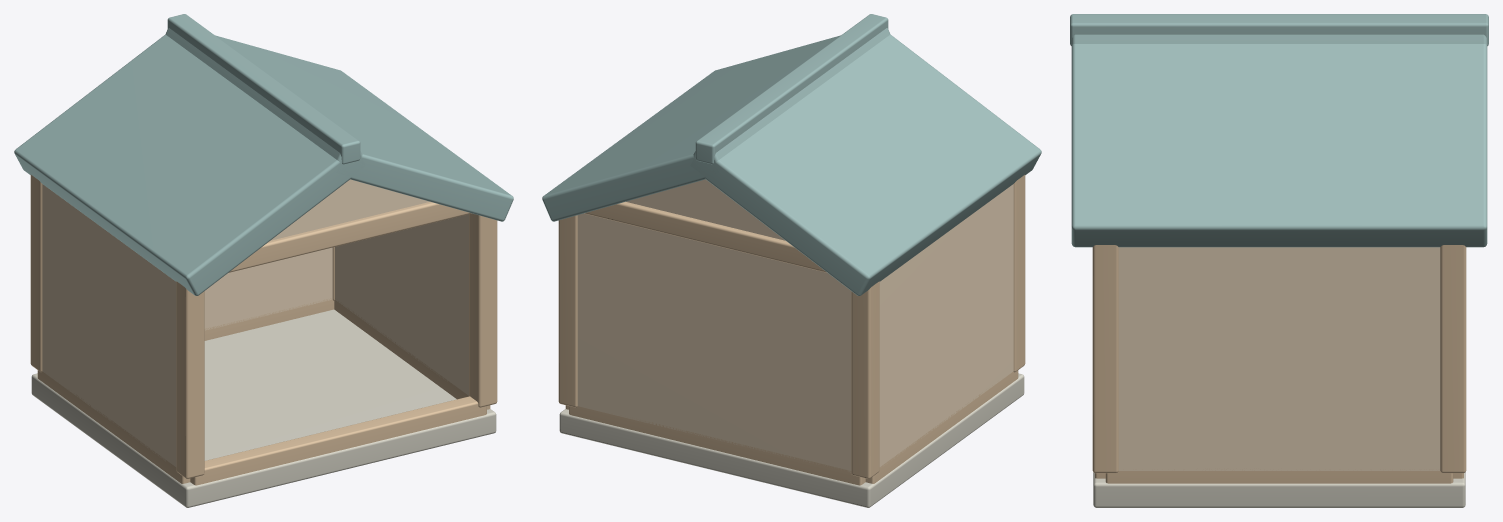
File: family-home-roof.glb
3 renders of one model, left to right at view 1: azimuth 30°, elevation 25°; view 2: azimuth 150°, elevation 25°; view 3: azimuth 270°, elevation 25°, orthographic. The views are drawn at different scales.
Visible parts, largest first — view 1: Padded roof plane.004, Rounded stone footing.006, Side panel.004, Padded roof plane.005, Side panel.005, Back panel, Sill beam.024, Corner post.018, Corner post.016, Ridge cap.002, Eave beam.008, Gable cladding.004 (+4 smaller); view 2: Back panel, Padded roof plane.004, Side panel.004, Padded roof plane.005, Rounded stone footing.006, Corner post.017, Ridge cap.002, Eave beam.009, Corner post.019, Sill beam.025, Gable cladding.005, Corner post.016 (+1 smaller); view 3: Padded roof plane.005, Side panel.005, Rounded stone footing.006, Ridge cap.002, Corner post.018, Corner post.019, Sill beam.027, Padded roof plane.004.
Boxes of the visible parts, box(x1,y1,x2,y2) form: Padded roof plane.004: box(14, 34, 365, 295); Rounded stone footing.006: box(31, 309, 496, 507); Side panel.004: box(42, 184, 176, 466); Padded roof plane.005: box(165, 28, 513, 221); Side panel.005: box(335, 214, 468, 395); Back panel: box(204, 247, 332, 330); Sill beam.024: box(190, 396, 486, 485); Corner post.018: box(469, 213, 497, 407); Corner post.016: box(176, 281, 204, 478); Ridge cap.002: box(167, 14, 360, 164); Eave beam.008: box(228, 201, 471, 272); Gable cladding.004: box(270, 179, 429, 240); Back panel: box(577, 213, 851, 472); Padded roof plane.004: box(690, 34, 1041, 295); Side panel.004: box(879, 184, 1013, 466); Padded roof plane.005: box(542, 28, 890, 221); Rounded stone footing.006: box(559, 373, 1024, 507); Corner post.017: box(851, 281, 879, 478); Ridge cap.002: box(695, 14, 888, 164); Eave beam.009: box(584, 201, 827, 272); Corner post.019: box(558, 215, 577, 407); Sill beam.025: box(569, 406, 865, 485); Gable cladding.005: box(626, 179, 785, 240); Corner post.016: box(1013, 175, 1025, 372); Padded roof plane.005: box(1071, 44, 1487, 247); Side panel.005: box(1118, 247, 1440, 470); Rounded stone footing.006: box(1093, 472, 1465, 507); Ridge cap.002: box(1070, 14, 1488, 45); Corner post.018: box(1092, 245, 1118, 473); Corner post.019: box(1440, 245, 1466, 473); Sill beam.027: box(1105, 469, 1453, 483); Padded roof plane.004: box(1071, 34, 1487, 44).
Size of the model in its own units: 2.91 by 2.84 by 2.7.
